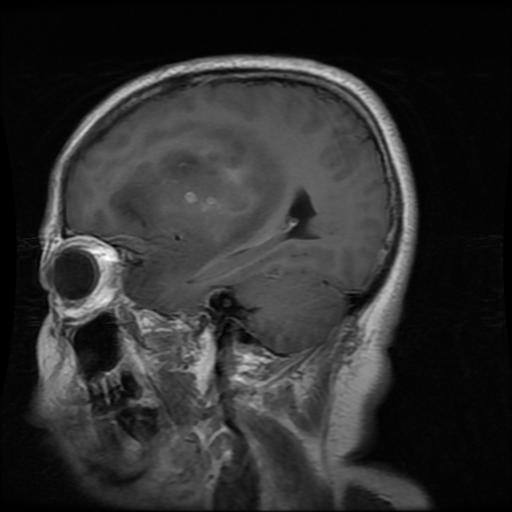Gliomia_tumour: (110, 126, 283, 305)
